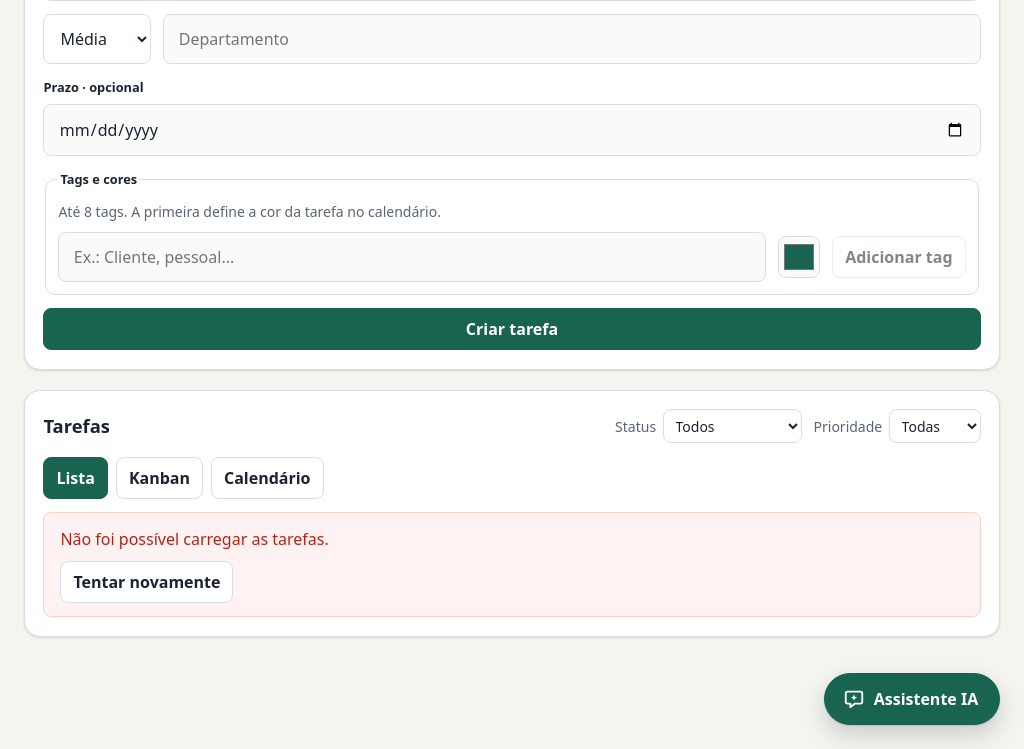
Test: TasksPage list › shows the error state and retries
(page scrolled)
Expected: the text "Não foi possível carregar as tarefas." is shown, [60,527,329,551]
Click the button "Tentar novamente" at (147, 582), box [60,560,234,602]
(page scrolled)
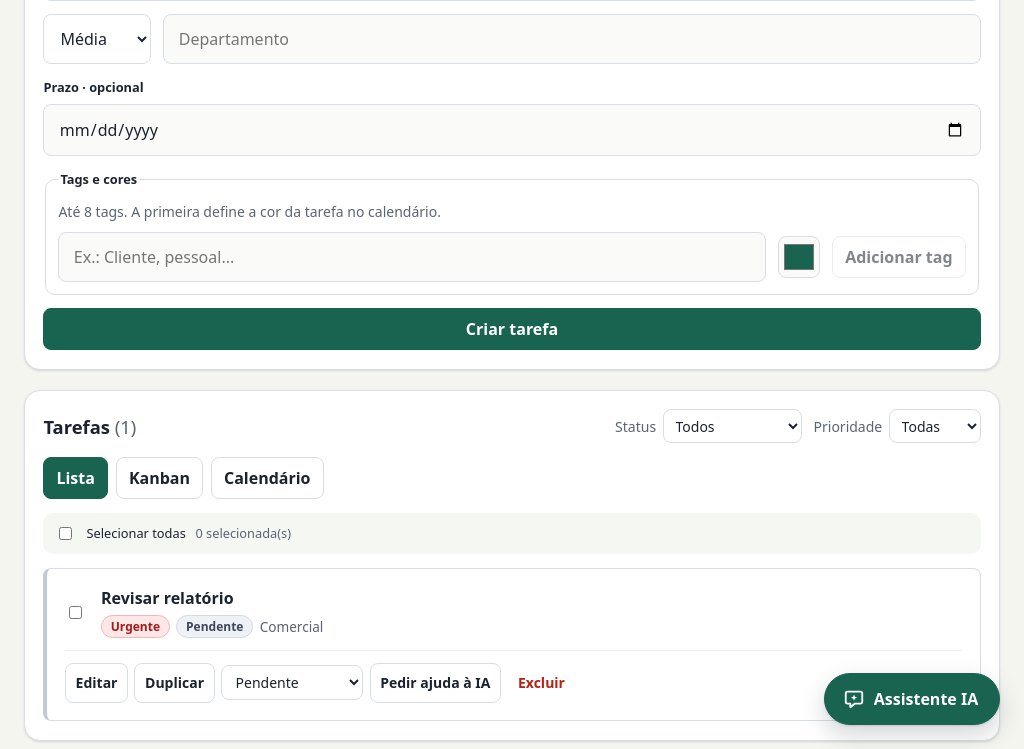
Expected: the text "Revisar relatório" is shown, [101,587,234,609]
